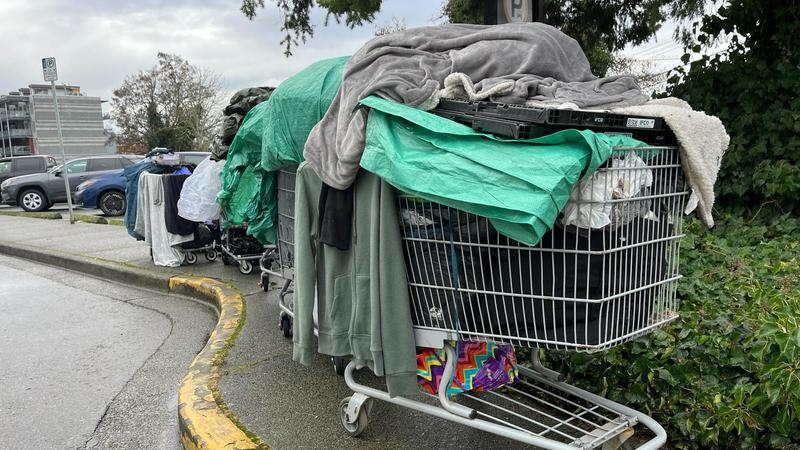Car: (4, 156, 159, 215)
shopping_cart: (251, 98, 720, 450)
